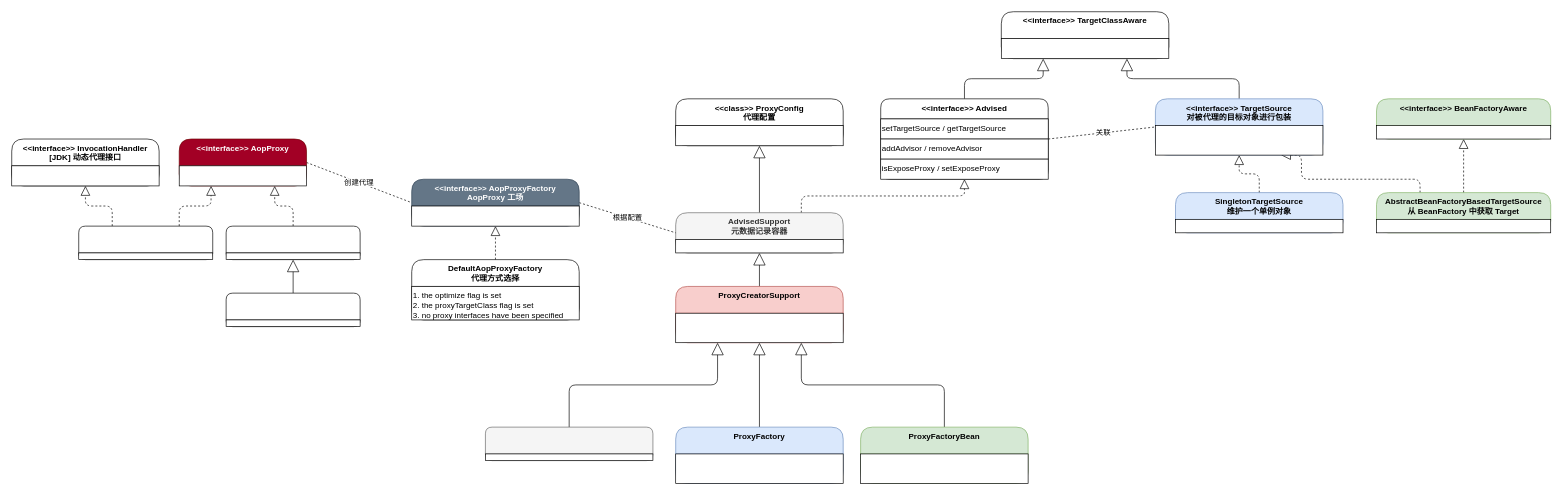
The diagram is 1562 pixels wide and 495 high, and some of its shapes have lost their labels. Each missing label, with the centre of its shape:
"AopProxy createAopProxy(AdvisedSupport)" belongs at pixel 495 215.
"AspectJProxyFactory aspectj 支持" belongs at pixel 569 443.
"CglibAopProxy CGLib 代理" belongs at pixel 292 242.
"getProxy" belongs at pixel 243 175.
"getTargetClass 被代理的类" belongs at pixel 1085 48.
"JdkDynamicAopProxy JDK 动态代理" belongs at pixel 145 242.
"Object getTarget() void releaseTarget(target)" belongs at pixel 1239 140.
"Object invoke(proxy, Method, Object[])" belongs at pixel 85 175.
"ObjenesisCglibAopProxy" belongs at pixel 292 309.
